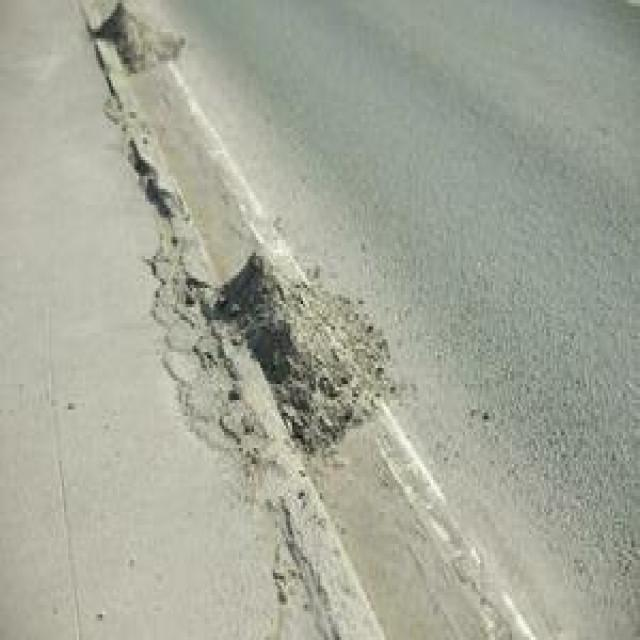road collapse: (41, 0, 505, 544)
